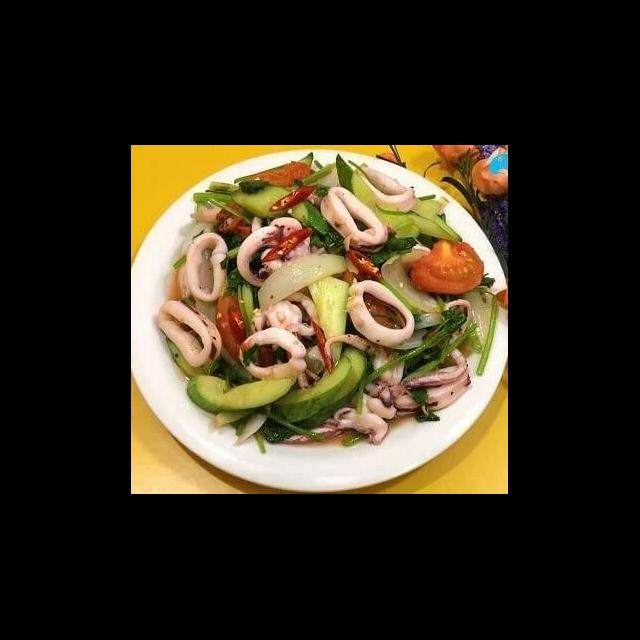muc: (323, 332, 408, 421), (390, 346, 476, 422), (235, 214, 312, 288), (343, 276, 418, 350), (154, 298, 224, 372), (318, 184, 391, 253), (280, 406, 390, 450), (237, 324, 310, 384), (248, 290, 322, 342), (182, 230, 230, 304), (356, 164, 418, 217)
